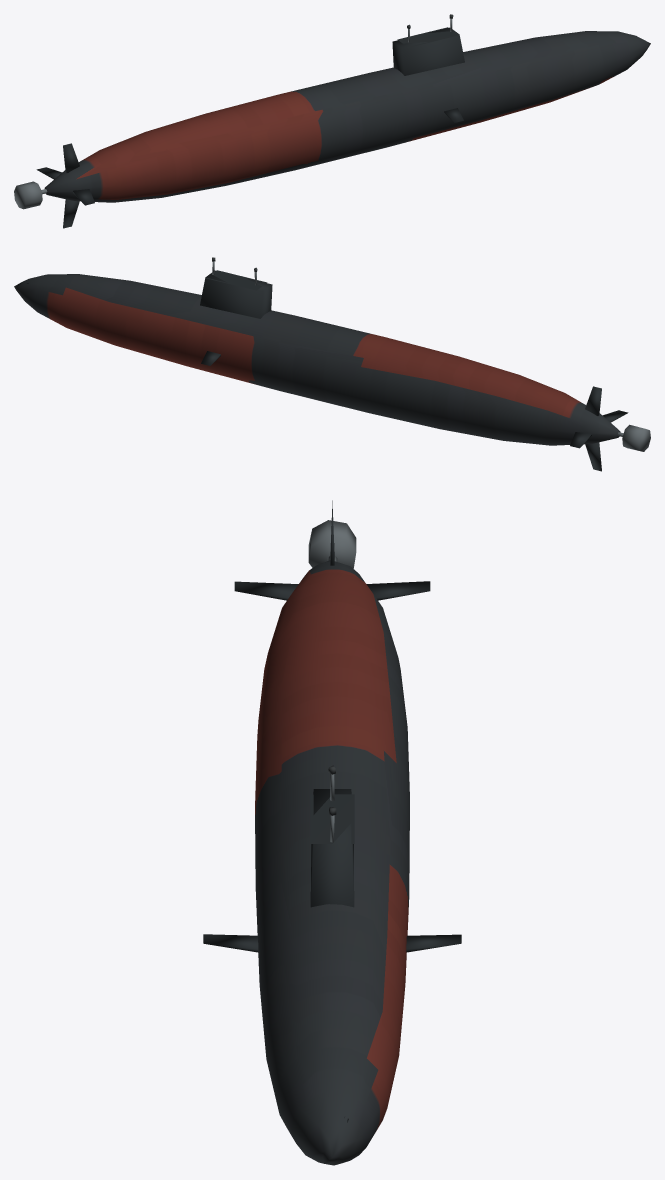
Rendered from US_SSN_Seawolf_LOD3.fbx.
The picture shows the model from 3 angles, top to bottom: view 1: azimuth 30°, elevation 25°; view 2: azimuth 150°, elevation 25°; view 3: azimuth 270°, elevation 25°; orthographic projection. The views are drawn at different scales.
Parts seen in each view (by area): view 1: US_SSN_Seawolf_LOD3; view 2: US_SSN_Seawolf_LOD3; view 3: US_SSN_Seawolf_LOD3.
Boxes of the visible parts, x1,y1,x2,y2 form: US_SSN_Seawolf_LOD3: (14,14,650,228); US_SSN_Seawolf_LOD3: (14,257,650,471); US_SSN_Seawolf_LOD3: (203,500,461,1165).
Size of the model in its own units: 113 by 20 by 20.26.
6 materials, 1 textured.
